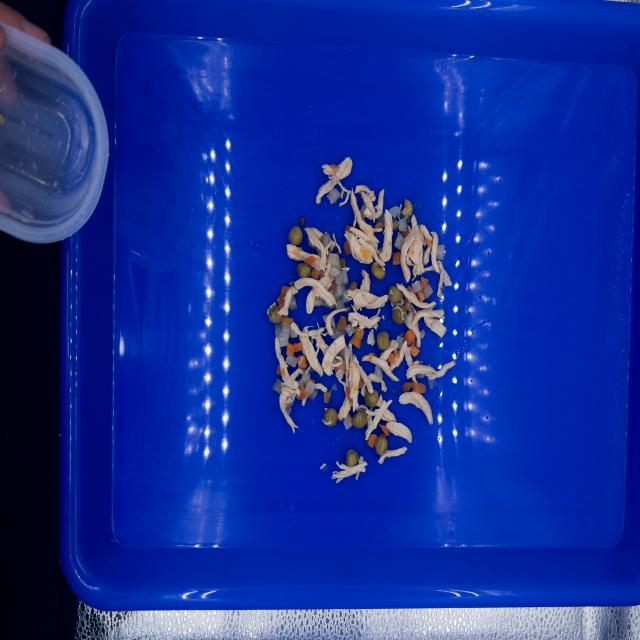Carrot: (378, 423, 390, 438), (405, 329, 416, 345), (296, 387, 309, 400), (366, 434, 378, 448), (401, 381, 414, 393), (350, 335, 361, 349), (310, 268, 322, 280), (324, 387, 333, 403), (281, 315, 294, 326), (297, 355, 308, 368), (337, 315, 347, 329), (412, 383, 426, 393), (286, 341, 295, 355), (360, 249, 371, 260), (277, 294, 285, 309), (410, 344, 420, 356), (303, 256, 316, 265), (355, 326, 364, 339), (392, 252, 401, 265), (403, 299, 412, 312), (346, 387, 353, 403), (344, 240, 351, 255), (415, 292, 426, 301), (293, 342, 302, 353), (421, 276, 428, 290), (349, 281, 358, 291), (281, 286, 290, 296), (400, 228, 409, 238), (423, 239, 432, 248), (375, 221, 385, 229), (276, 363, 282, 376), (345, 224, 352, 233), (339, 259, 346, 268), (327, 284, 336, 291), (388, 353, 395, 362), (348, 413, 353, 424), (369, 352, 374, 362), (407, 285, 413, 293), (395, 349, 400, 358), (289, 280, 295, 287), (300, 217, 305, 225), (330, 164, 339, 168), (335, 367, 339, 375), (344, 363, 346, 374)
Chicken_Shred: (315, 157, 386, 270), (278, 227, 341, 317), (400, 215, 452, 300), (338, 341, 387, 421), (371, 340, 455, 383), (396, 283, 447, 348), (275, 337, 304, 433), (344, 269, 389, 329), (357, 395, 412, 443), (315, 307, 350, 376), (291, 321, 324, 377), (398, 392, 433, 425), (355, 185, 384, 223), (332, 456, 368, 484), (376, 209, 393, 262), (378, 446, 407, 464), (391, 298, 405, 320), (357, 307, 379, 319), (398, 204, 407, 220), (367, 329, 375, 346), (315, 383, 327, 392), (302, 396, 308, 406), (362, 354, 369, 361), (320, 464, 326, 470), (382, 315, 385, 319)
Peas: (352, 410, 368, 429), (268, 304, 283, 324), (288, 226, 303, 245), (371, 261, 386, 280), (392, 306, 407, 324), (324, 408, 338, 427), (364, 390, 379, 407), (375, 437, 388, 456), (388, 286, 402, 303), (377, 331, 389, 350), (346, 449, 359, 466), (402, 198, 413, 216), (297, 263, 310, 278)
Potato_White: (278, 324, 290, 347), (328, 253, 341, 272), (327, 188, 341, 204), (420, 284, 433, 299), (330, 285, 345, 298), (339, 345, 352, 360), (394, 232, 404, 251), (331, 327, 346, 339), (336, 360, 345, 380), (313, 296, 329, 307), (304, 380, 316, 394), (388, 206, 400, 219), (273, 379, 283, 394), (320, 233, 330, 247), (301, 369, 311, 383), (436, 245, 445, 260), (374, 365, 383, 380), (411, 281, 422, 293), (287, 355, 298, 367), (343, 416, 352, 430), (329, 267, 340, 278), (341, 290, 351, 302), (345, 324, 355, 336), (290, 295, 297, 311), (340, 271, 348, 284), (396, 336, 404, 349), (335, 299, 345, 309), (360, 205, 367, 219), (335, 273, 343, 285), (310, 389, 318, 401), (285, 402, 293, 414), (289, 327, 297, 338), (399, 219, 406, 231), (392, 219, 399, 231), (275, 325, 282, 336), (298, 378, 305, 388), (322, 314, 329, 323), (415, 373, 425, 378), (420, 330, 425, 339), (332, 358, 341, 363), (331, 318, 335, 327), (330, 304, 335, 309)
